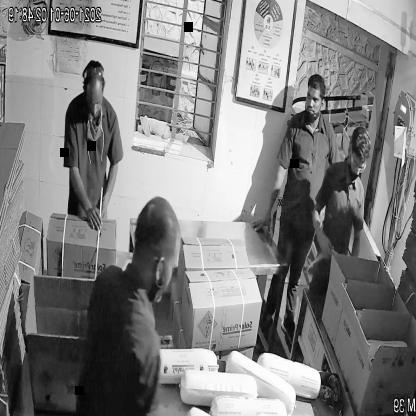goggles: (348, 152, 371, 177)
no_goggles: (300, 89, 327, 110), (82, 93, 105, 113)
